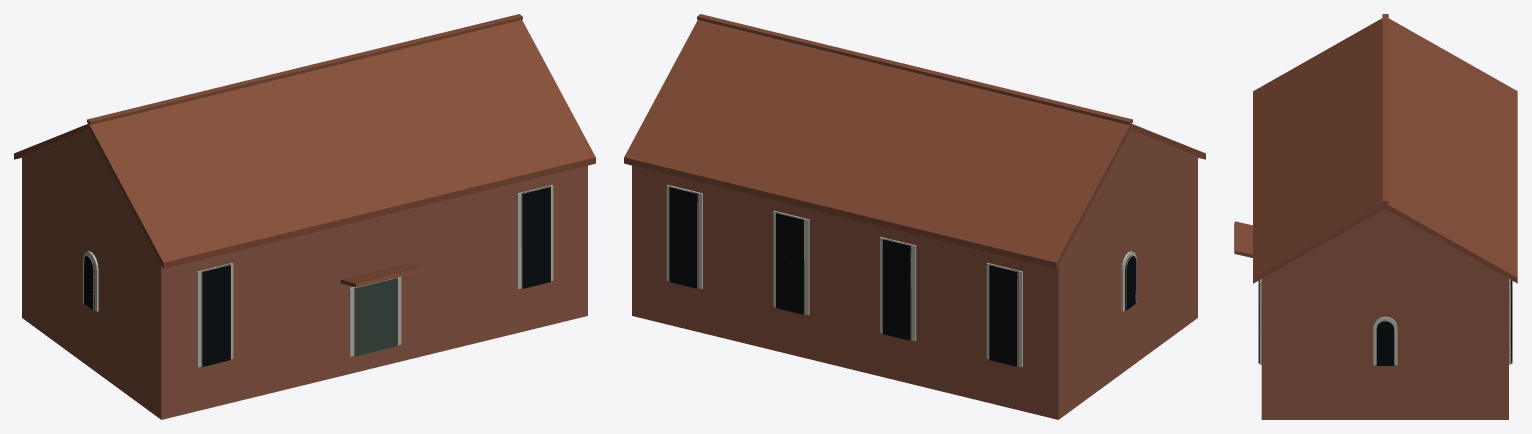
The model's file is context.church.town_meeting.glb.
3 views of the same model, side by side, from view 1: azimuth 30°, elevation 25°; view 2: azimuth 150°, elevation 25°; view 3: azimuth 270°, elevation 25° (orthographic). The views are drawn at different scales.
Visible parts, largest first — view 1: main__stone_854, main__clad_843, main__glass_dark, main__timber_344, main__stone_cbb, main__stone_998; view 2: main__stone_854, main__clad_843, main__glass_dark, main__stone_cbb, main__stone_998; view 3: main__clad_843, main__stone_854, main__glass_dark, main__stone_cbb, main__stone_998.
Boxes of the visible parts, x1,y1,x2,y2 form: main__stone_854: (22,130,587,419); main__clad_843: (14,14,595,287); main__glass_dark: (84,186,550,366); main__timber_344: (355,277,397,356); main__stone_cbb: (83,185,553,367); main__stone_998: (83,185,550,366); main__stone_854: (632,130,1197,419); main__clad_843: (624,14,1205,268); main__glass_dark: (669,186,1136,366); main__stone_cbb: (666,185,1136,367); main__stone_998: (669,186,1136,366); main__clad_843: (1234,14,1517,283); main__stone_854: (1261,209,1508,419); main__glass_dark: (1259,280,1511,365); main__stone_cbb: (1260,279,1510,365); main__stone_998: (1258,280,1512,363).
Bounding box in the file's own units: 15.24 × 8.36 × 9.75.
